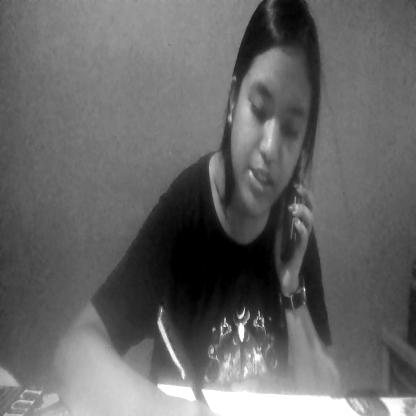Distracted: (219, 11, 333, 239)
